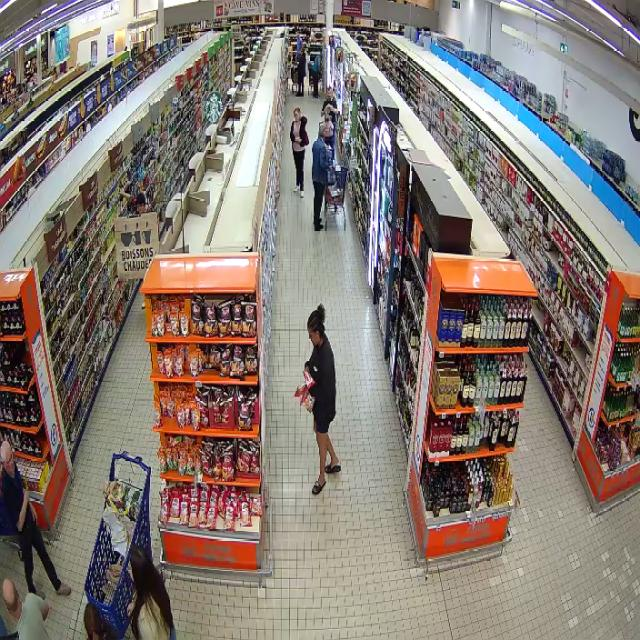article: (300, 392, 315, 413), (302, 371, 317, 388), (294, 385, 309, 396)
hands: (30, 505, 38, 525), (303, 367, 310, 373)
person: (2, 442, 69, 594), (304, 304, 340, 494), (130, 546, 175, 639)
